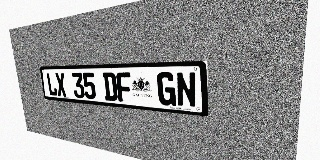3: (72, 73, 85, 98)
5: (82, 72, 97, 99)
D: (102, 72, 118, 101)
F: (116, 72, 132, 102)
G: (157, 72, 176, 106)
L: (46, 73, 58, 96)
N: (176, 72, 197, 108)
X: (55, 73, 67, 97)
